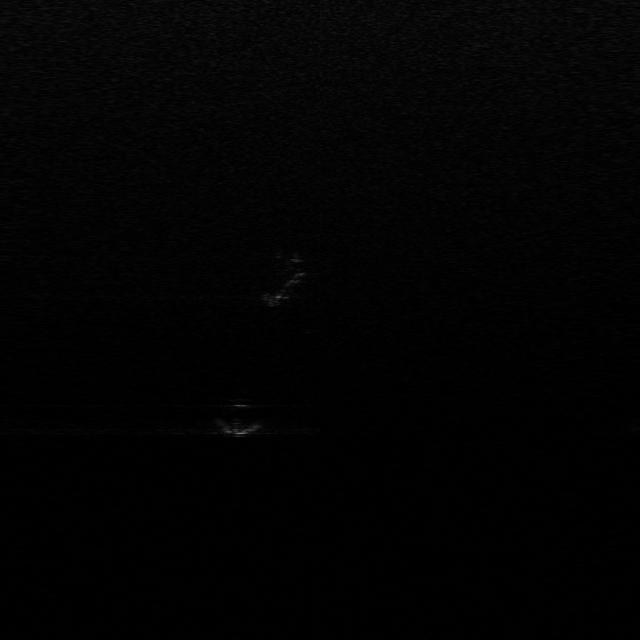ball: (217, 394, 266, 436)
tyre: (258, 258, 307, 308)
